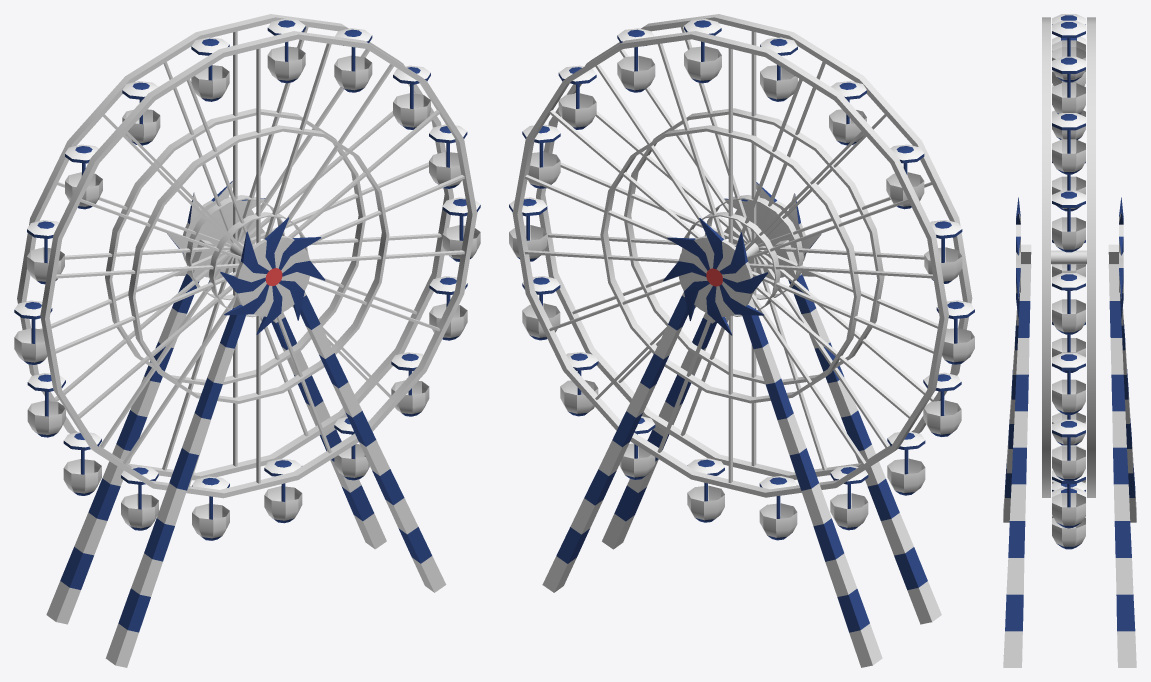
File: ferris-wheel.glb
3 views of the same model, side by side, from view 1: azimuth 30°, elevation 25°; view 2: azimuth 150°, elevation 25°; view 3: azimuth 270°, elevation 25° (orthographic). The views are drawn at different scales.
Visible parts, largest first — view 1: Ferris_Wheel; view 2: Ferris_Wheel; view 3: Ferris_Wheel.
Part boxes in pixels (x1,y1,x2,y2): Ferris_Wheel: [14, 14, 480, 667]; Ferris_Wheel: [509, 14, 974, 667]; Ferris_Wheel: [1003, 14, 1136, 667].
Bounding box in the file's own units: 1.92 × 2.28 × 0.4999.
Materials: 1 (1 with a texture image).
